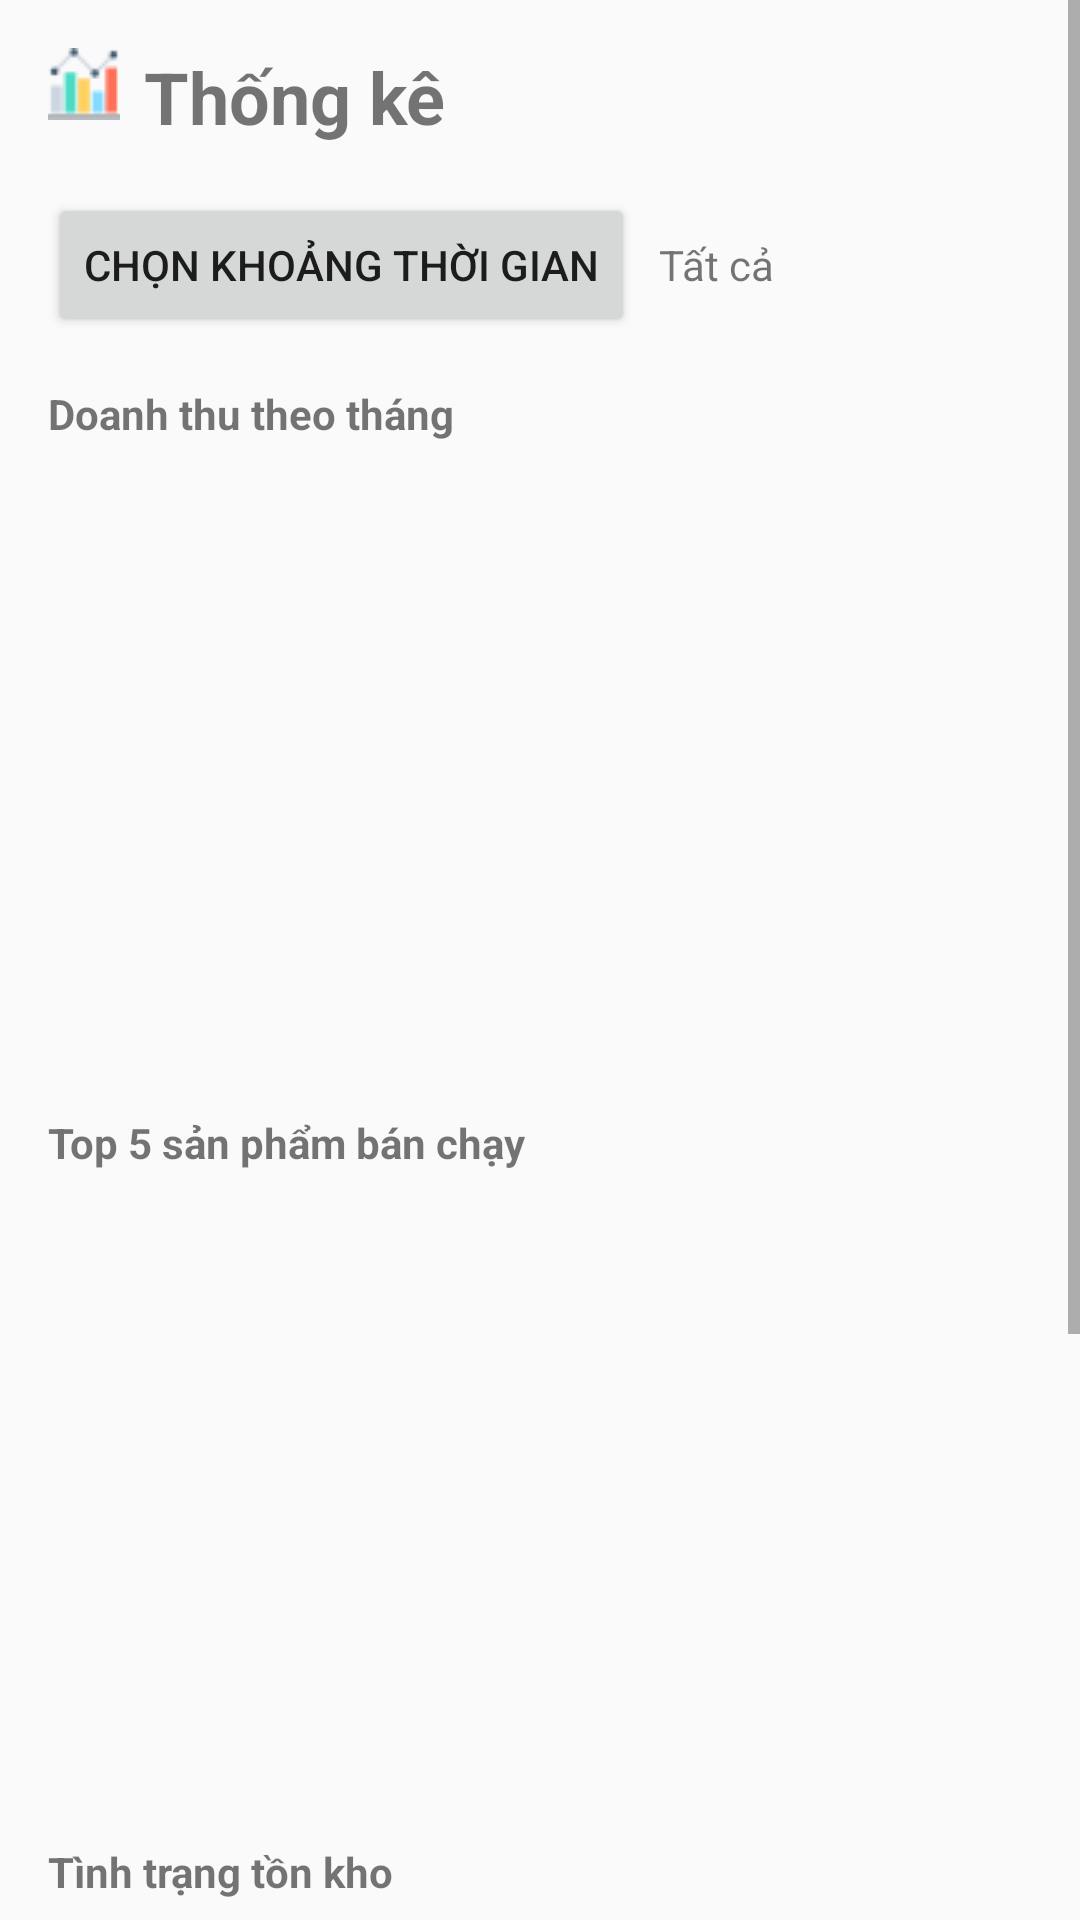

Where icons sit on this 1080x1920 app screen, as region(x1, y1, x2, y2):
chart: region(48, 48, 120, 120)
